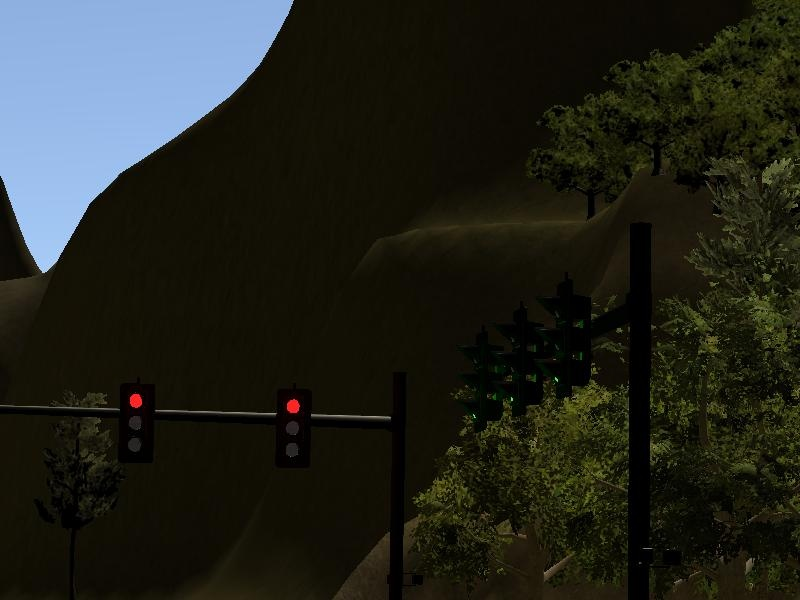RED: (274, 388, 312, 472), (118, 380, 156, 464)
